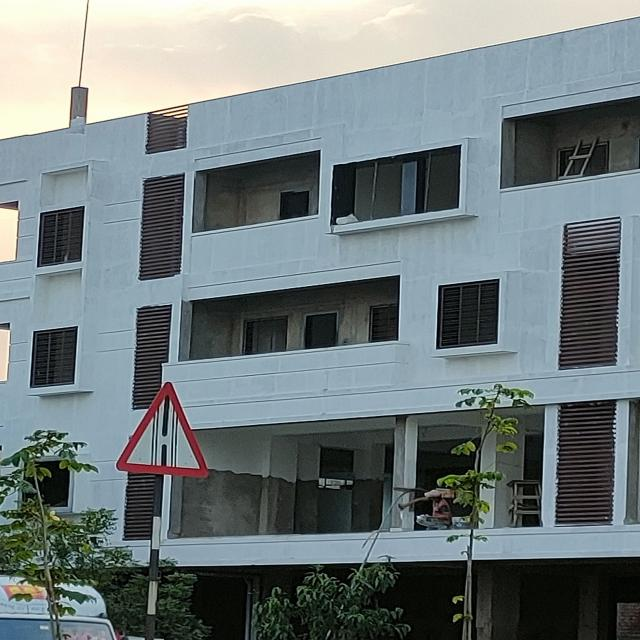GAP_IN_MEDIAN: (115, 382, 213, 481)
